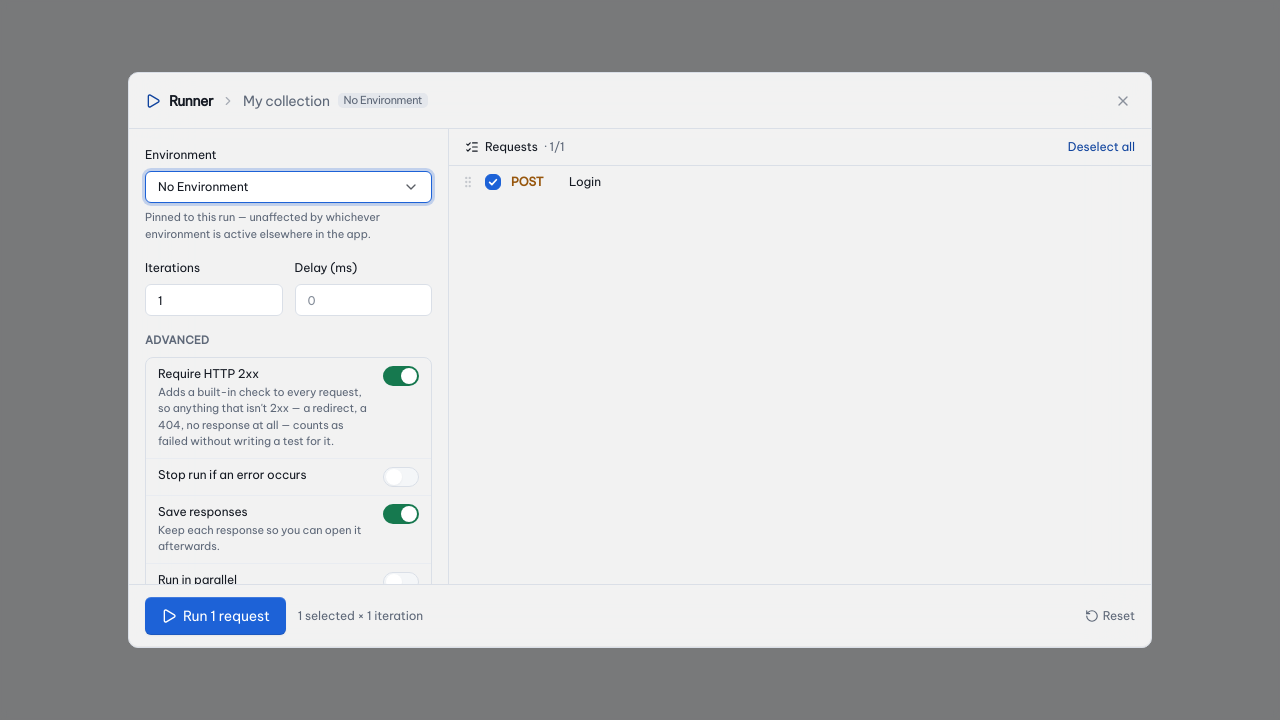
it: RunnerDialog run loop › keeps counting correctly across many iterations (the throttled-flush path)
Step 1. Replace the text in the field labelled "Iterations" with "250" → (214, 300), box [145,284,282,316]
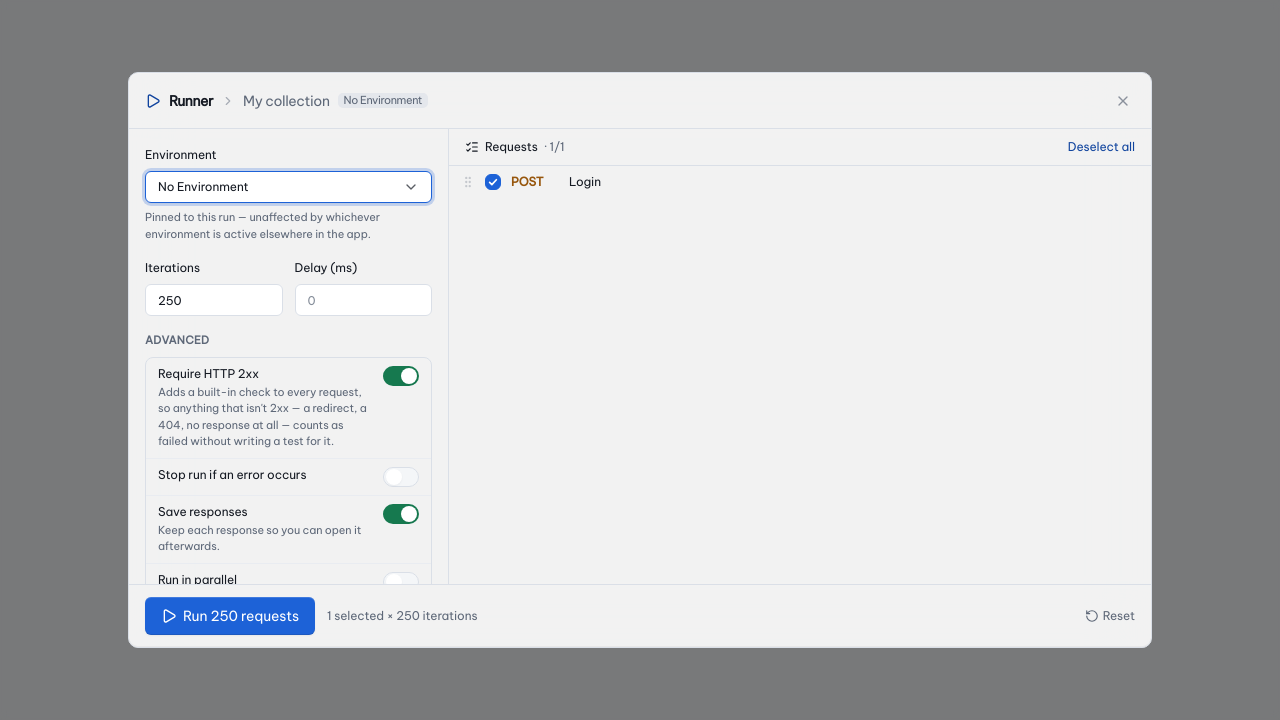
Step 2. Click the button "Run 250 requests" → (230, 616), box [145,597,315,635]
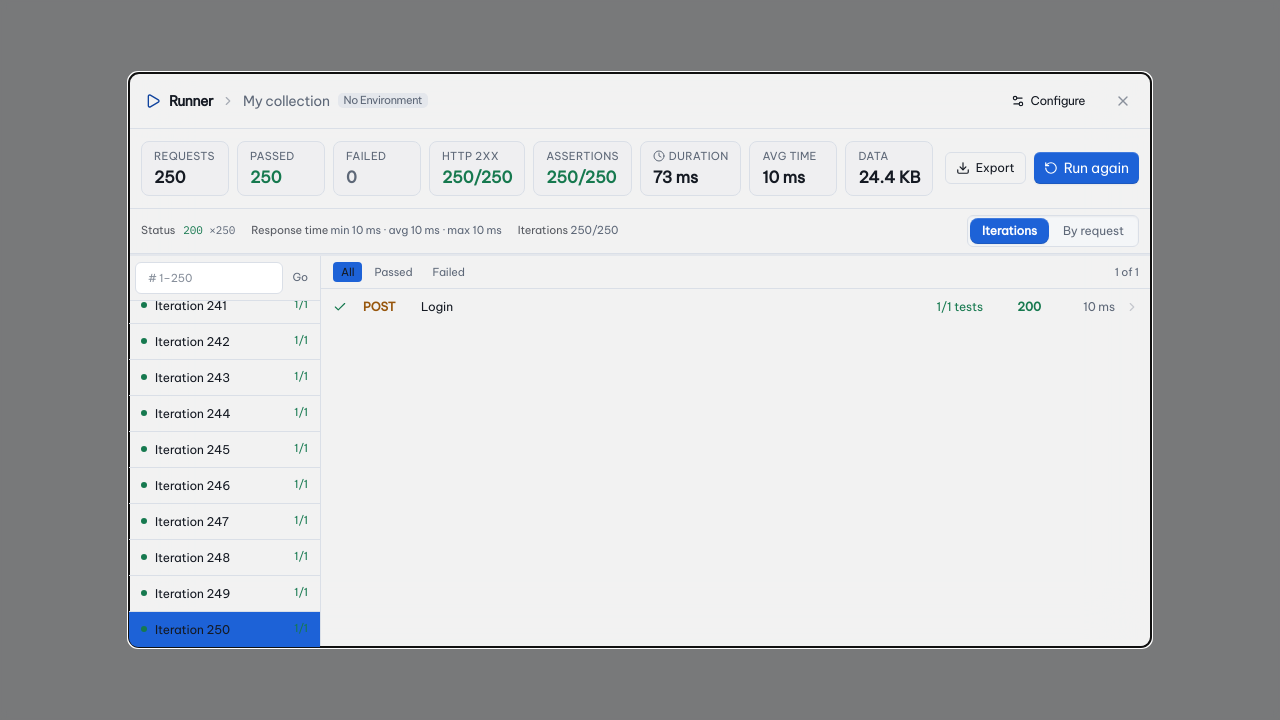
Result: the button "200 ×250" is shown at [181,222,237,239]
